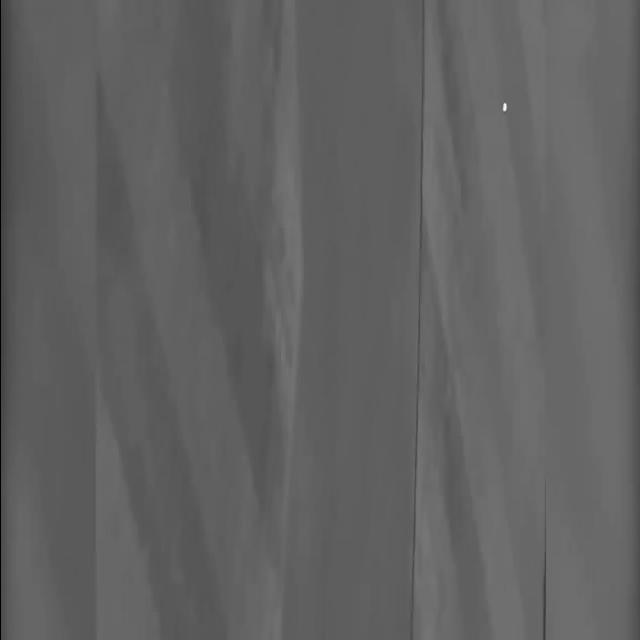baseball: (501, 102, 507, 112)
